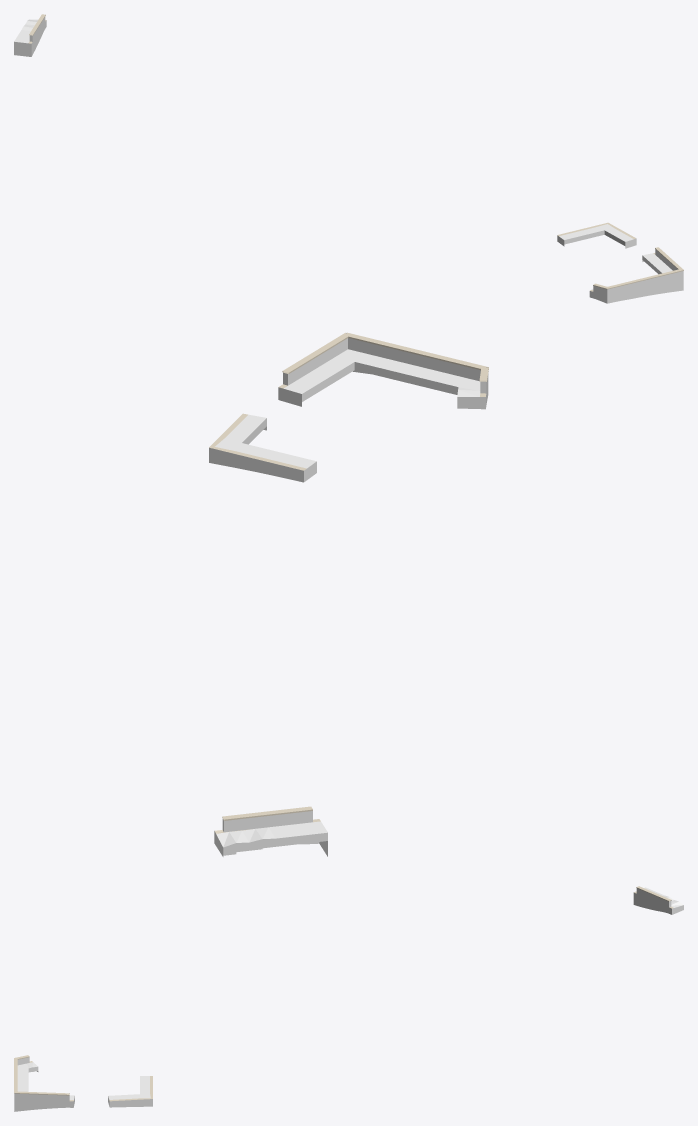
File: SM_BM_BC_Works_3_3.glb
3 renders of one model, top to bottom at view 1: azimuth 30°, elevation 25°; view 2: azimuth 150°, elevation 25°; view 3: azimuth 270°, elevation 25°, orthographic. The views are drawn at different scales.
Parts seen in each view (by area): view 1: SM_BM_BC_Works_3_3; view 2: SM_BM_BC_Works_3_3; view 3: SM_BM_BC_Works_3_3.
Boxes of the visible parts, x1,y1,x2,y2 form: SM_BM_BC_Works_3_3: (14, 14, 683, 303); SM_BM_BC_Works_3_3: (209, 332, 488, 856); SM_BM_BC_Works_3_3: (14, 886, 683, 1111).
Bounding box in the file's own units: 47.3 × 11.84 × 88.28.
